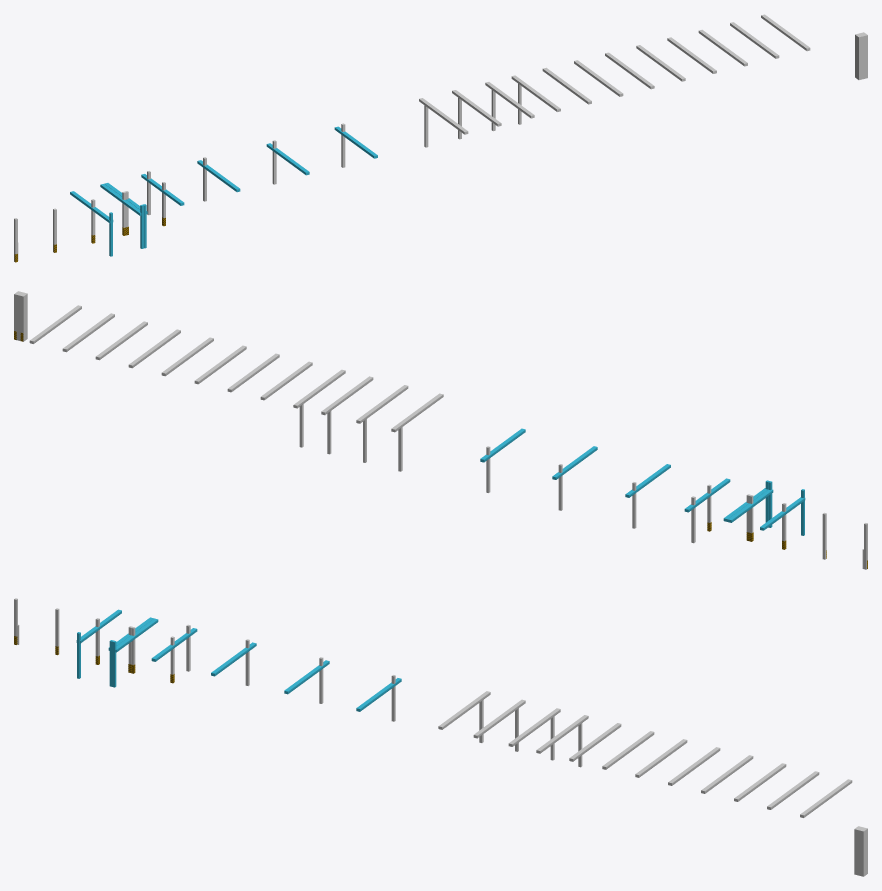
The model's file is vigasColumnas.fbx.
3 views of the same model, one above another, from view 1: azimuth 30°, elevation 25°; view 2: azimuth 150°, elevation 25°; view 3: azimuth 330°, elevation 25° (orthographic). The views are drawn at different scales.
Visible parts, largest first — view 1: row.038, row.037, row.059, row.058; view 2: row.038, row.037, row.059, row.058; view 3: row.038, row.037, row.059.
Part boxes in pixels (x1,y1,x2,y2): row.038: (511, 14, 810, 111); row.037: (419, 82, 534, 134); row.059: (855, 32, 867, 79); row.058: (424, 90, 495, 147); row.038: (29, 305, 345, 408); row.037: (321, 376, 443, 432); row.059: (14, 291, 27, 341); row.058: (327, 411, 402, 471); row.038: (536, 715, 852, 817); row.037: (438, 691, 560, 746); row.059: (854, 826, 867, 876).
Bounding box in the file's own units: 12263 × 620 × 1181.
3 materials, 3 textured.
